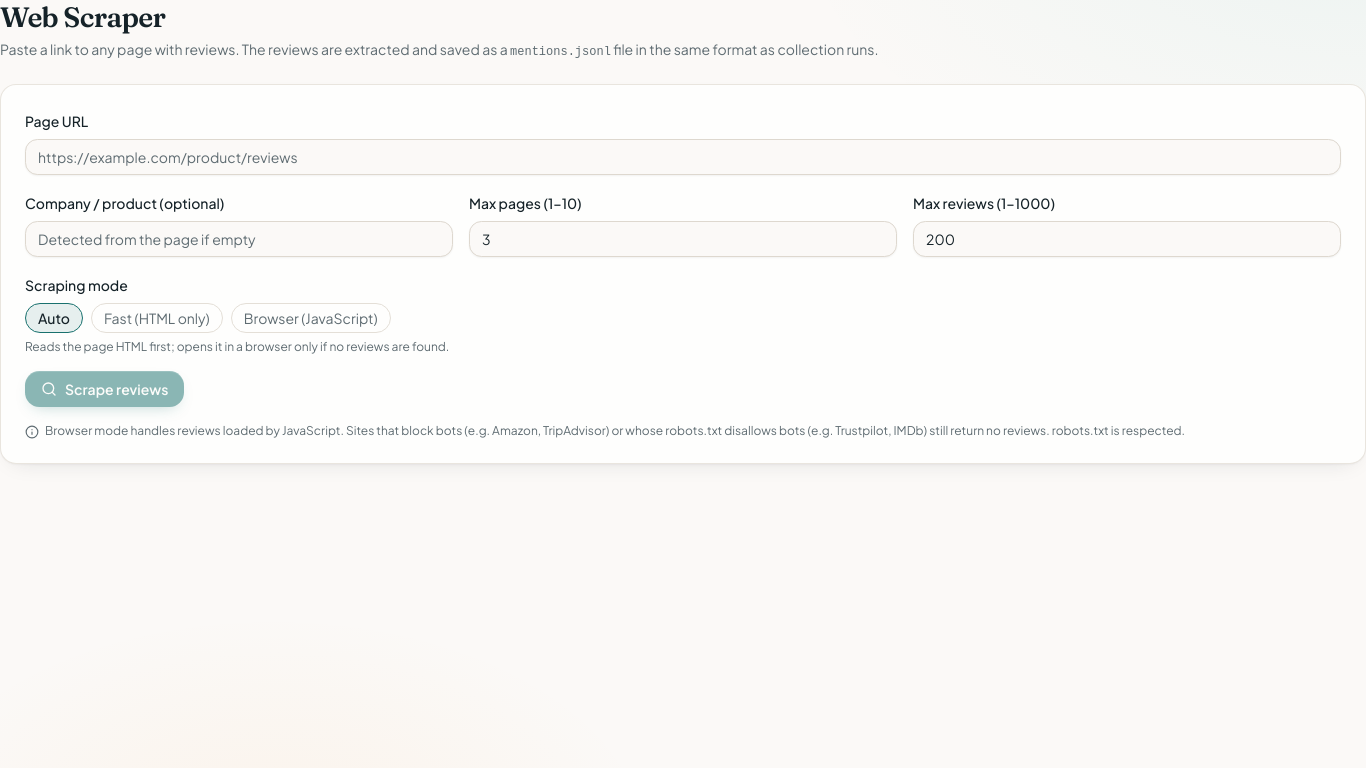
Test: Web Scraper page › shows Recommended / Not recommended for thumbs-style reviews
Type "https://store.example/app/1" into the field with test id "scrape-url" at (683, 157), box [25,139,1341,175]
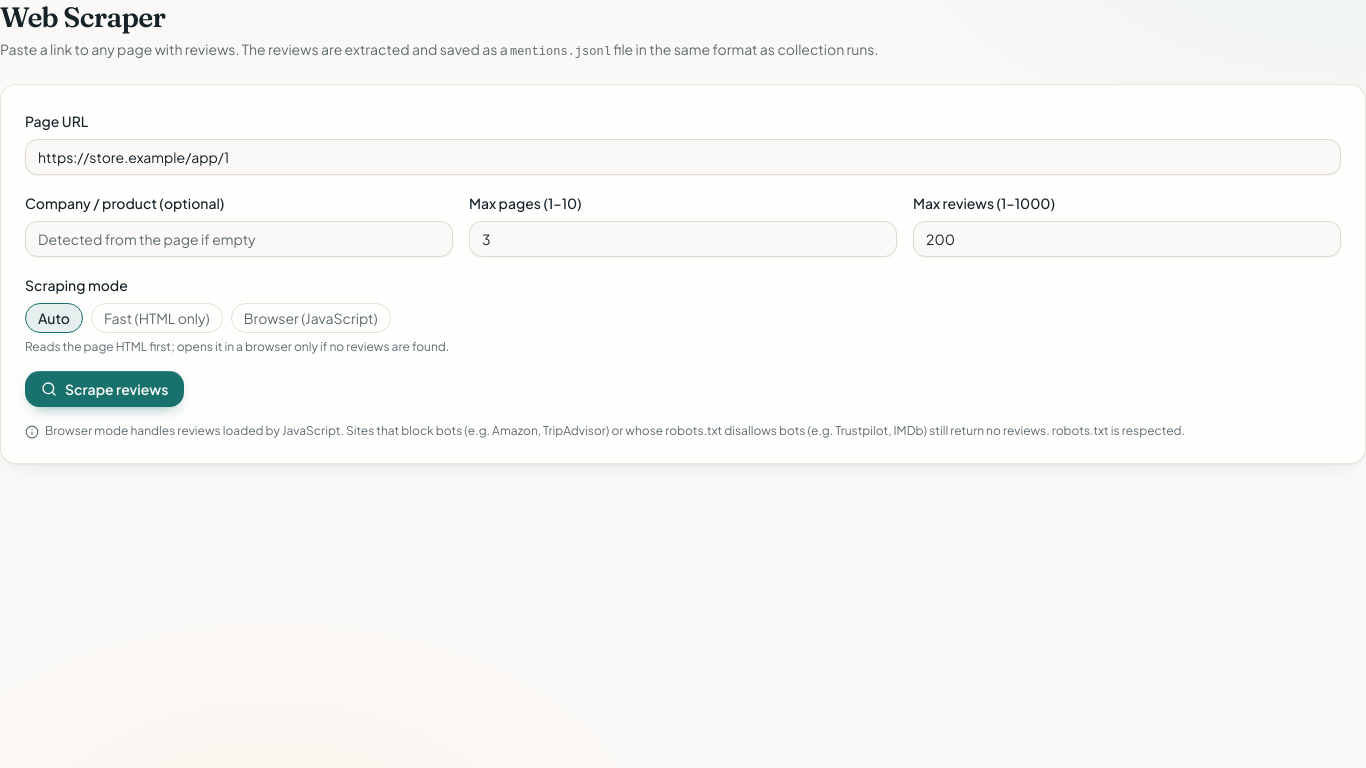
Click the button with test id "scrape-submit" at (105, 389), box [25,371,184,407]
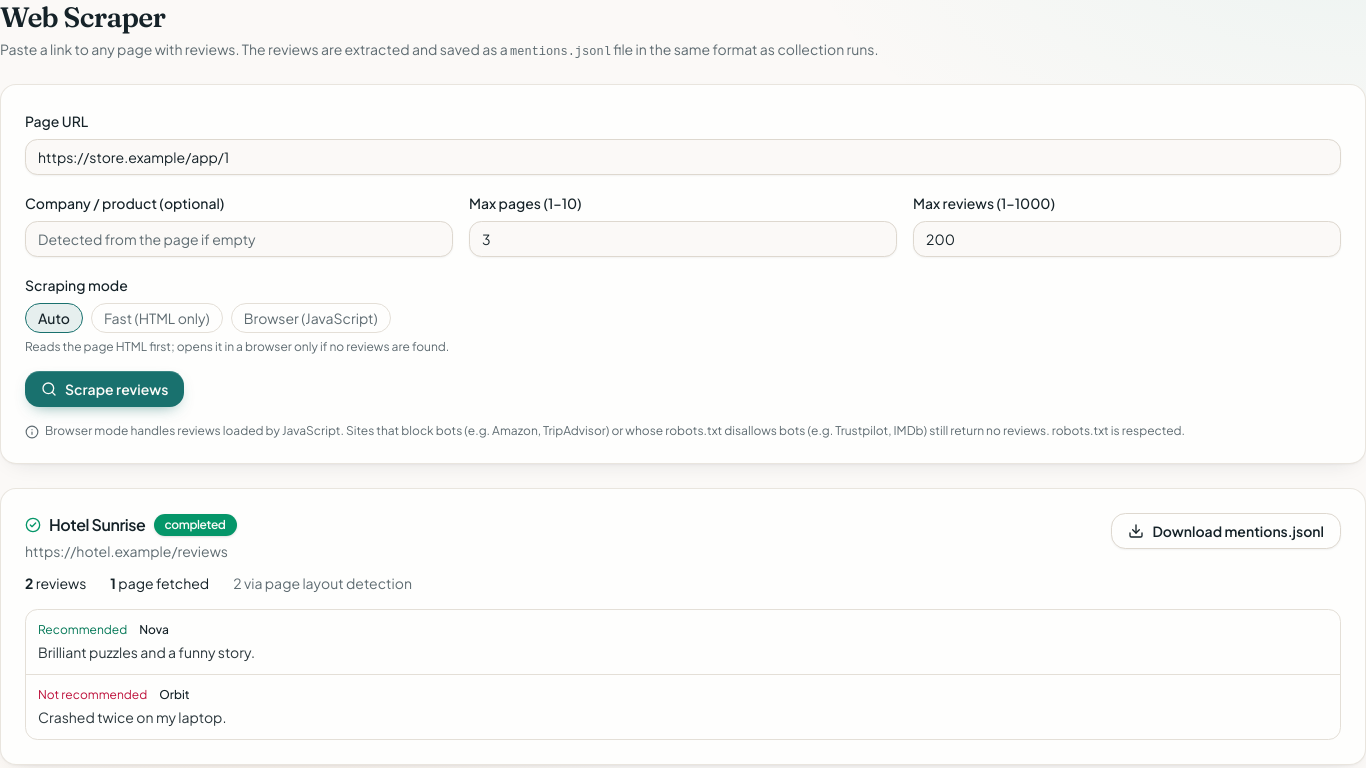
Result: the number of elements with test id "scrape-recommended" is 2 at [38,622,127,638]; [38,687,147,703]
Result: the elements with test id "scrape-recommended" read "Recommended", "Not recommended", in this order at [38,622,127,638]; [38,687,147,703]
